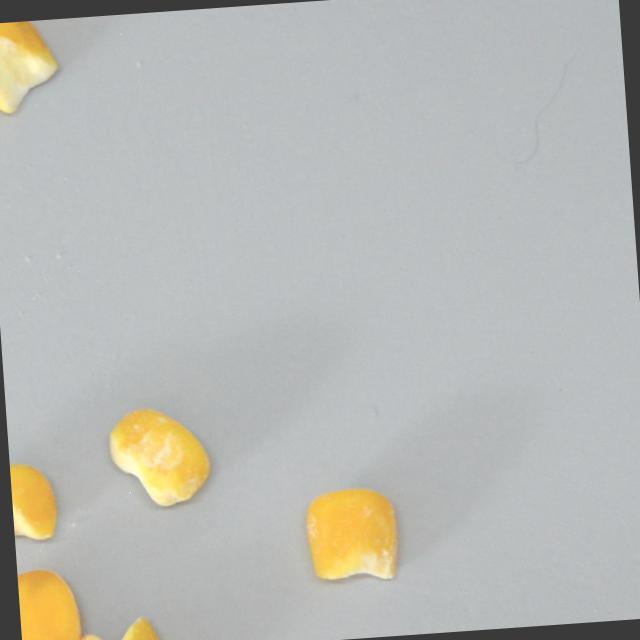no_canjicado: (0, 18, 60, 114), (9, 459, 58, 554)
pelicula: (105, 402, 213, 508), (301, 485, 402, 586), (16, 562, 82, 640), (68, 614, 176, 640)
